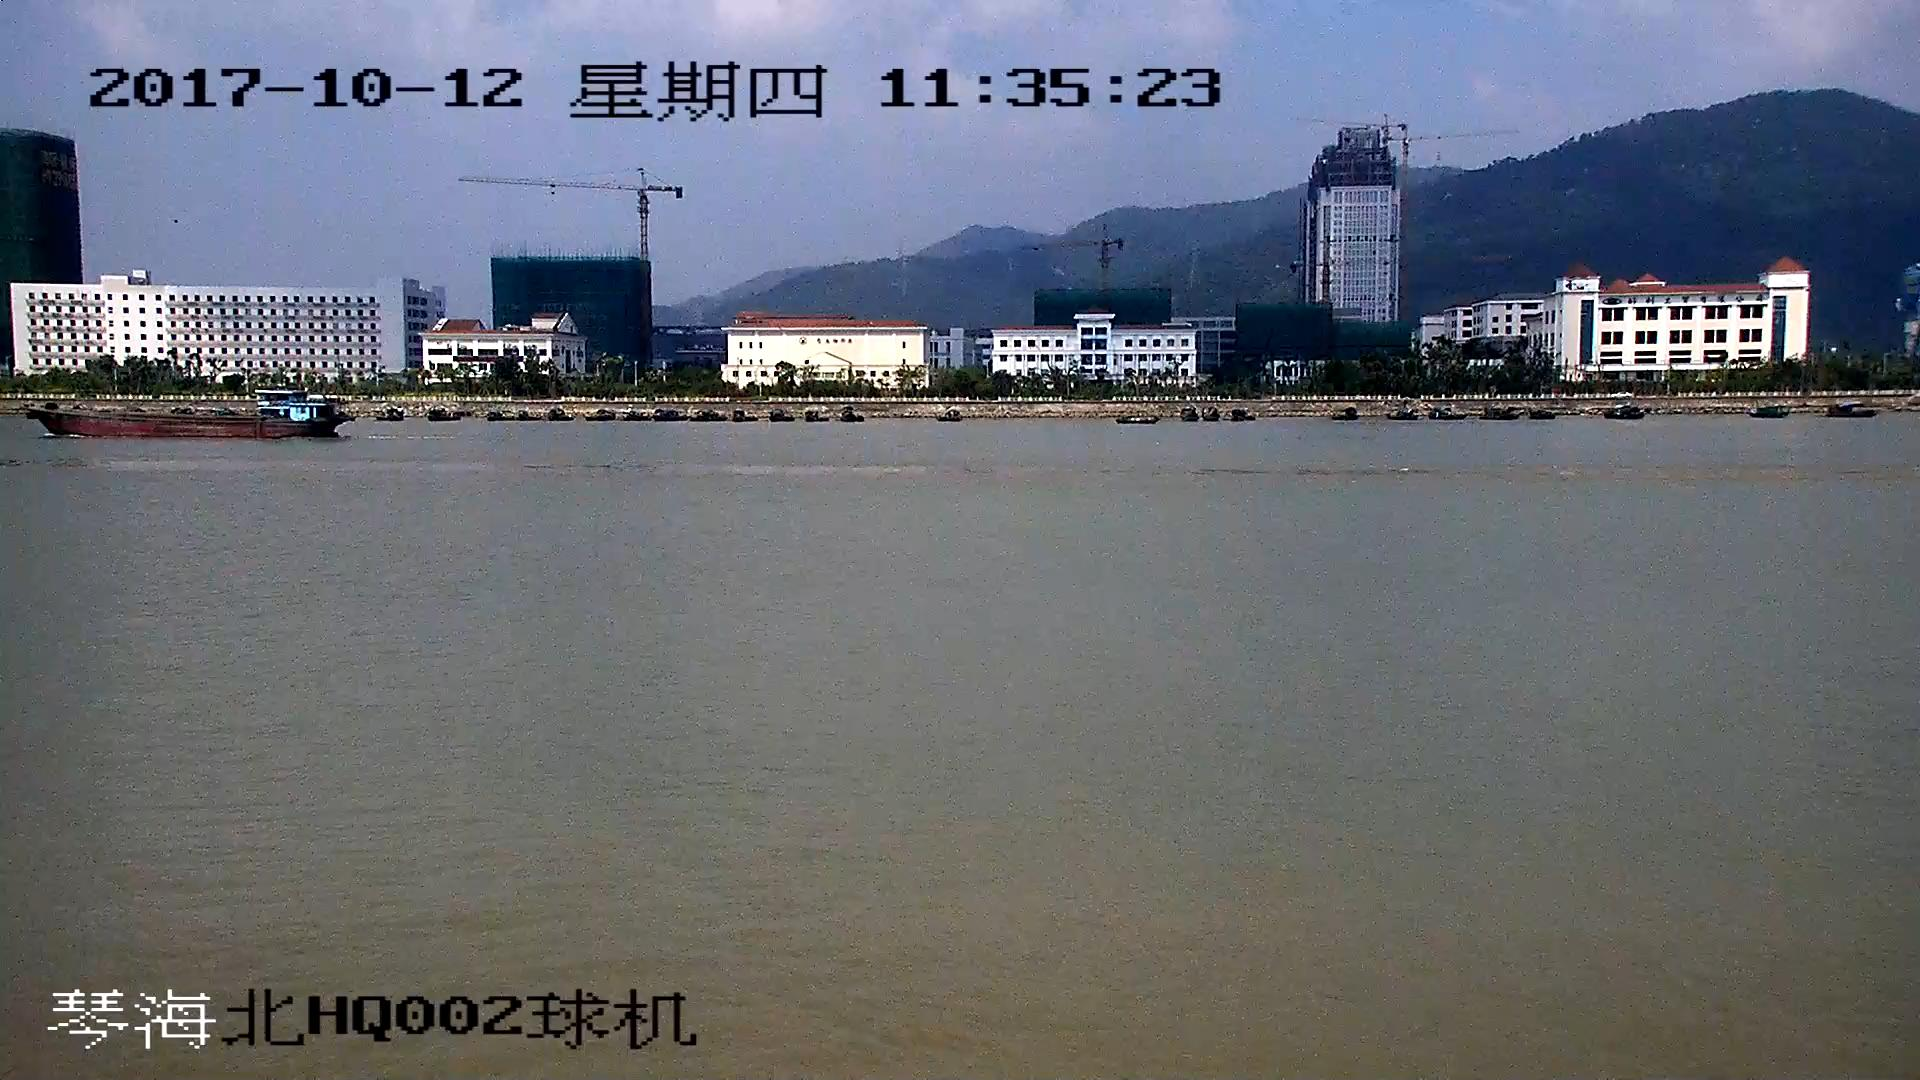bulk cargo carrier: (32, 385, 338, 439)
